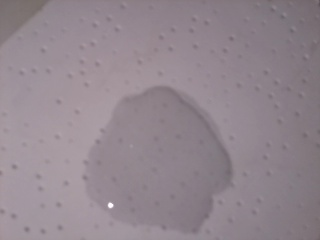Water_detected: (101, 107, 200, 207)
